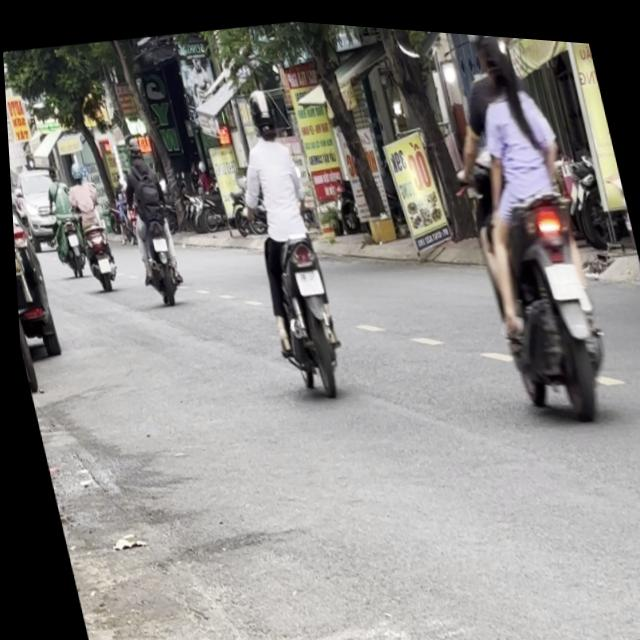helmet: (475, 28, 523, 100), (244, 81, 280, 139), (465, 27, 504, 46)
licenseplate: (424, 25, 622, 424), (215, 75, 353, 396)
nohelmet: (543, 251, 580, 292), (290, 261, 321, 291)
